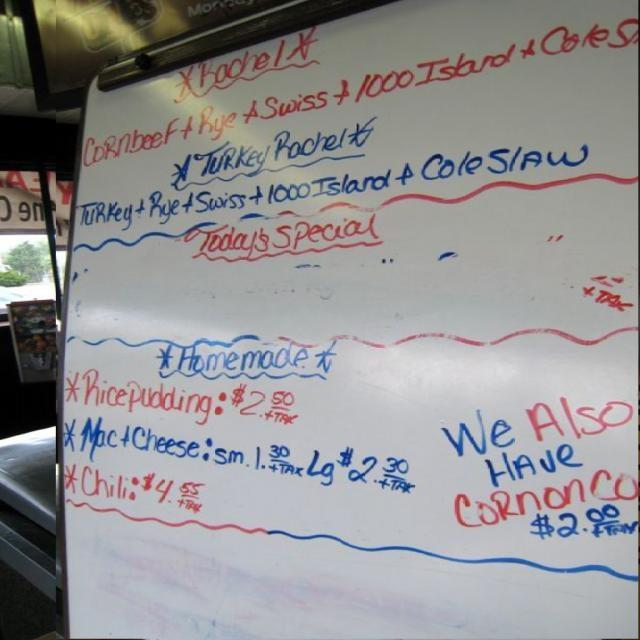Whiteboard: (57, 0, 639, 639)
